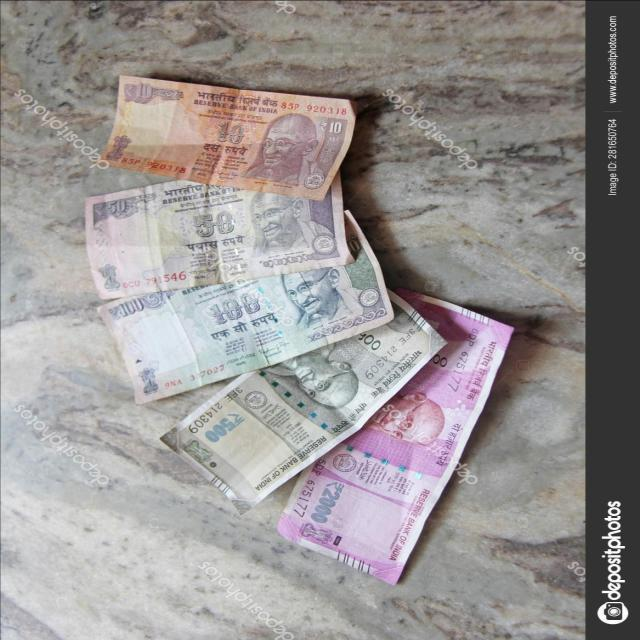50IndianRupees: (84, 146, 348, 294)
